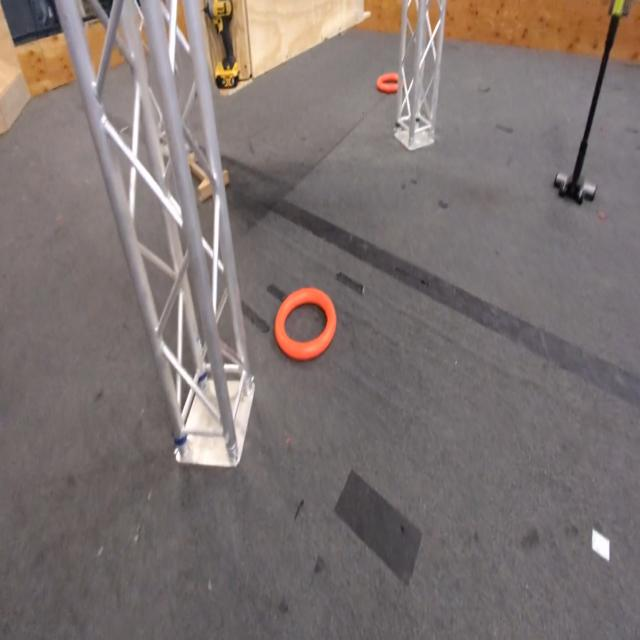note: (276, 290, 340, 362), (376, 72, 400, 94)
